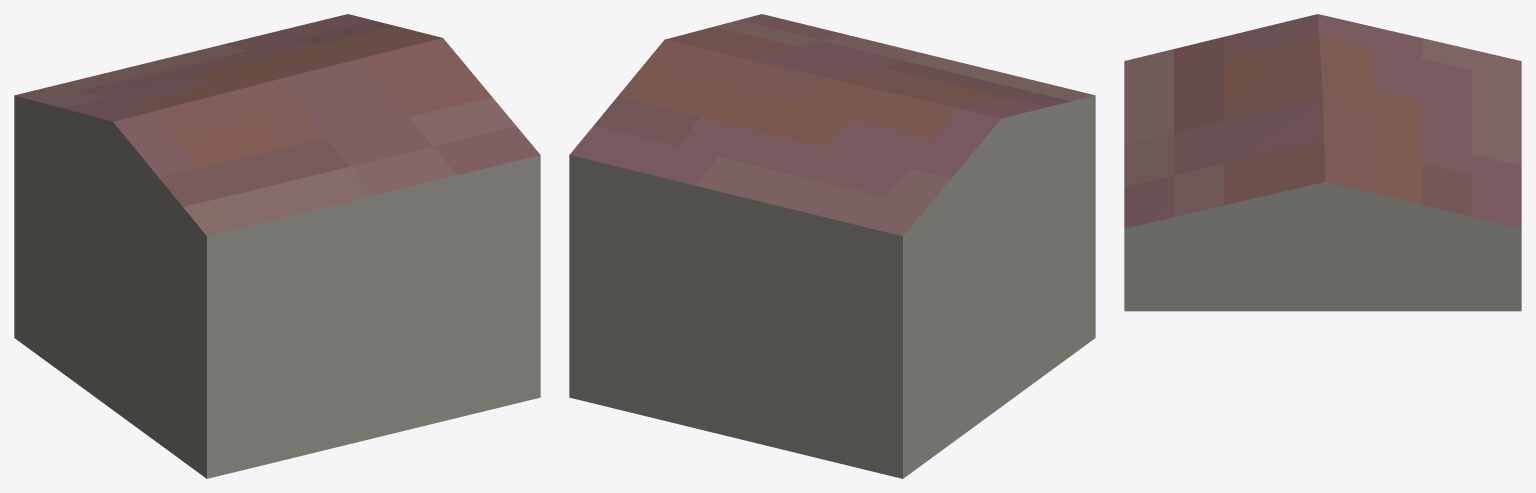
File: aquarium.glb
3 views of the same model, side by side, from view 1: azimuth 30°, elevation 25°; view 2: azimuth 150°, elevation 25°; view 3: azimuth 270°, elevation 25° (orthographic). The views are drawn at different scales.
Parts seen in each view (by area): view 1: Aqua-col; view 2: Aqua-col; view 3: Aqua-col.
Part boxes in pixels (x1,y1,x2,y2): Aqua-col: [14, 14, 540, 478]; Aqua-col: [569, 14, 1095, 478]; Aqua-col: [1124, 14, 1521, 311].
Size of the model in its own units: 7.07 by 5.84 by 7.07.
Materials: 2 (1 with a texture image).
